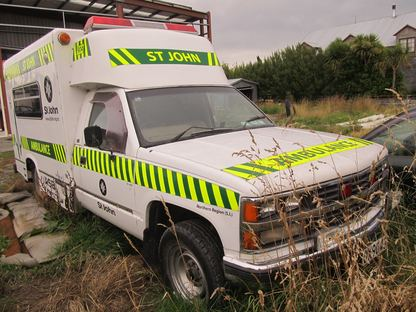ambulance: (2, 14, 402, 310)
